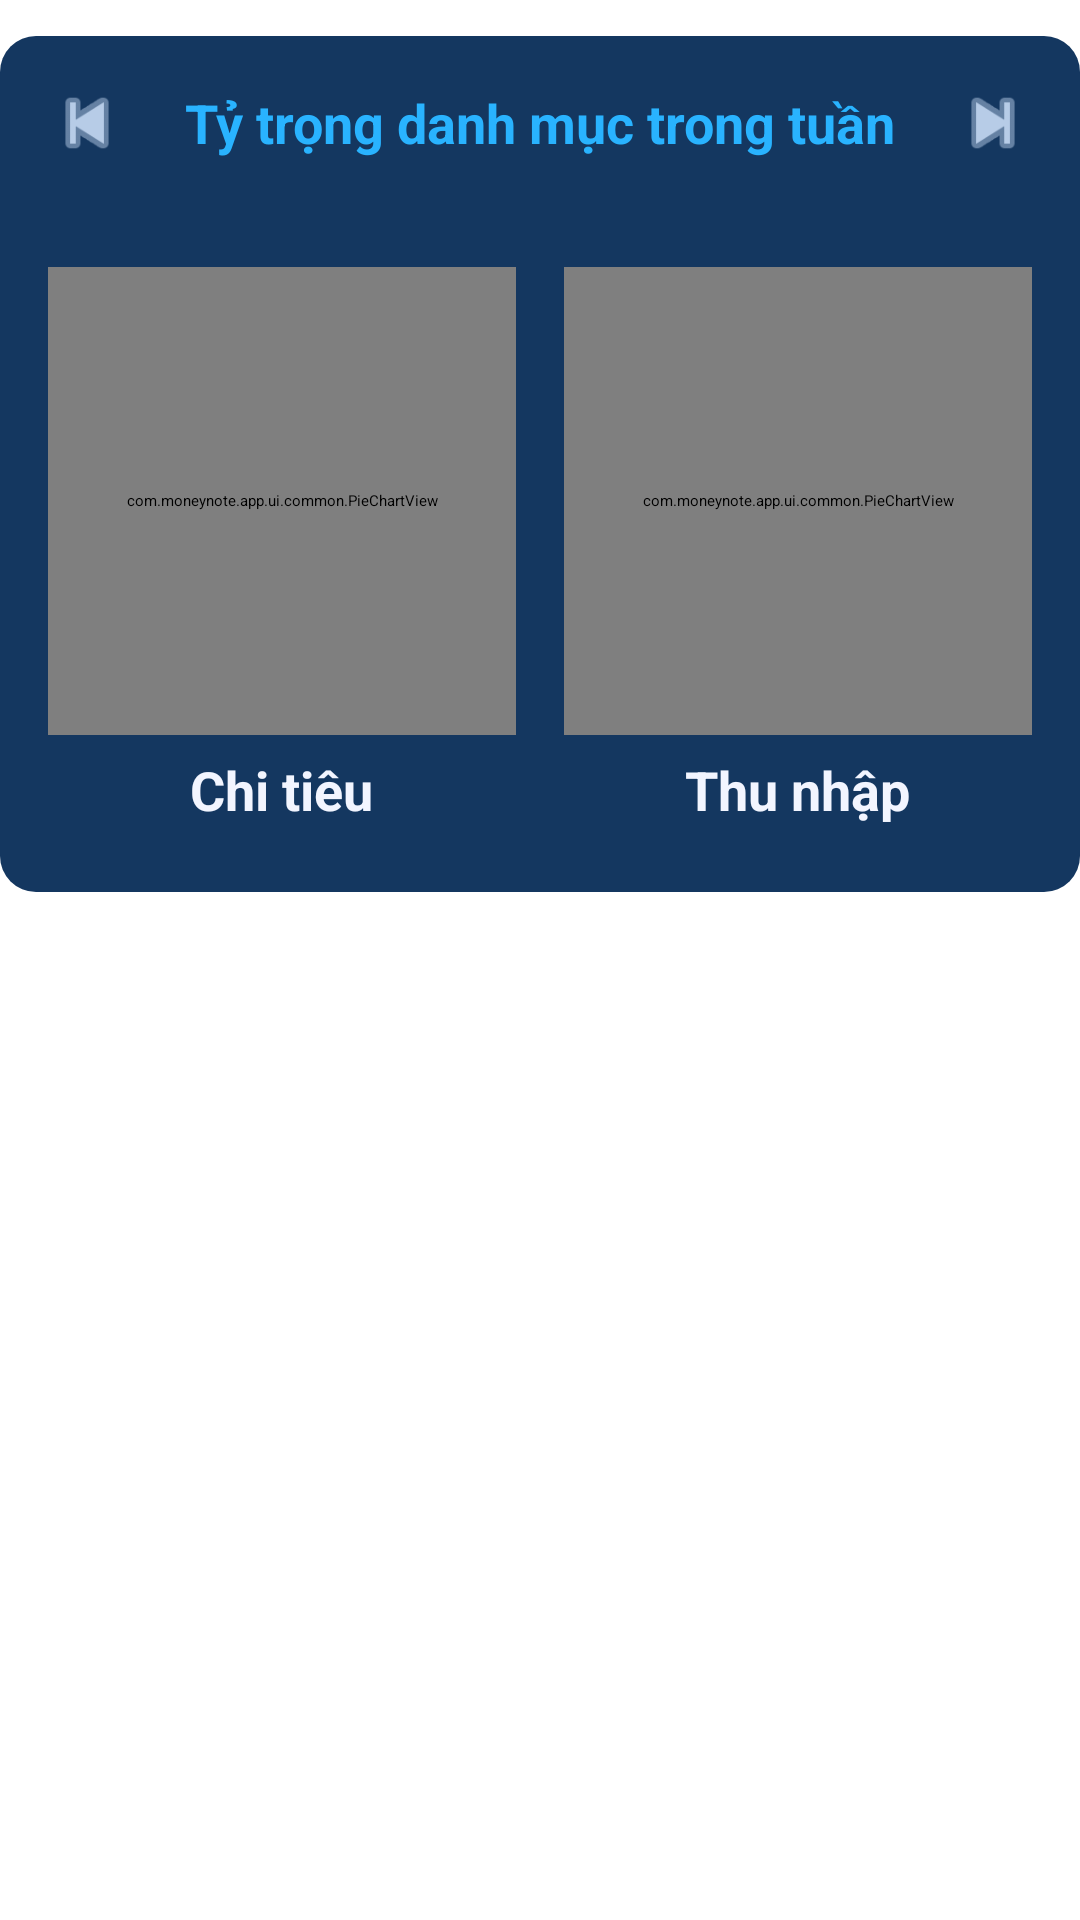

Screen size 1080w x 1920h. Icon name, then its box in pixels as bbox(x1, y1, x2, y2):
next: bbox(971, 97, 1015, 149)
previous: bbox(65, 97, 109, 149)
